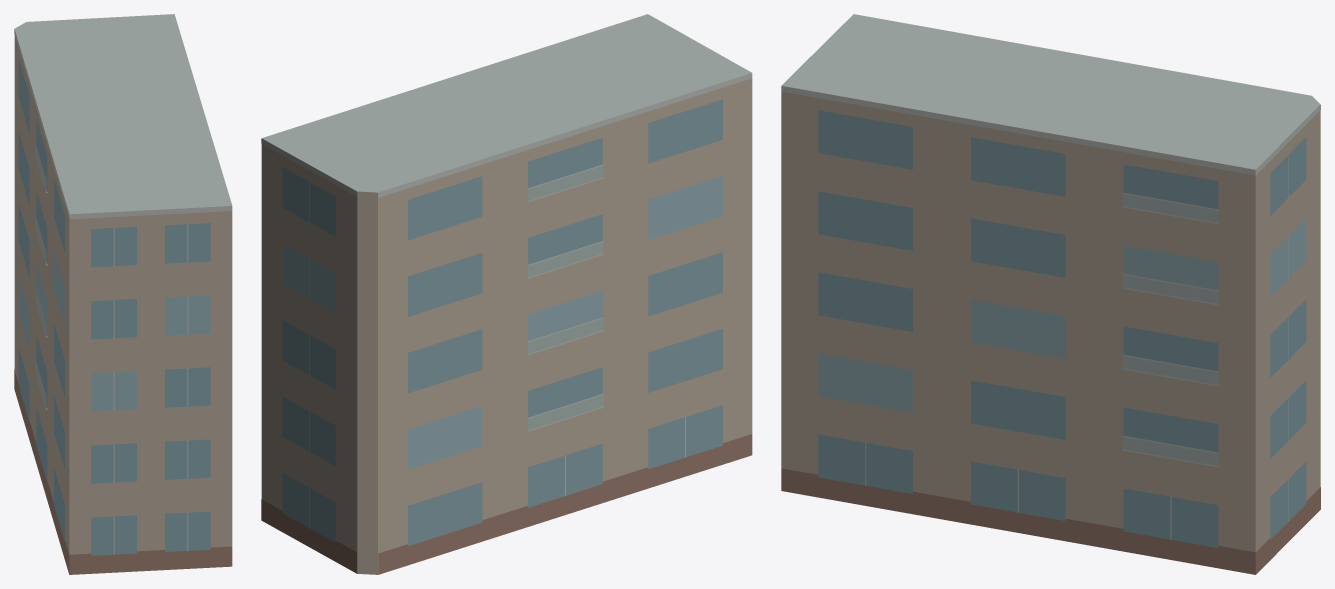
Rendered from survey-upis-32562920.glb.
3 views of the same model, side by side, from view 1: azimuth 30°, elevation 25°; view 2: azimuth 150°, elevation 25°; view 3: azimuth 270°, elevation 25° (orthographic). The views are drawn at different scales.
Parts seen in each view (by area): view 1: survey-upis-32562920.tmp; view 2: survey-upis-32562920.tmp; view 3: survey-upis-32562920.tmp.
Part boxes in pixels (x1,y1,x2,y2): survey-upis-32562920.tmp: (14, 14, 232, 574); survey-upis-32562920.tmp: (261, 14, 752, 574); survey-upis-32562920.tmp: (781, 14, 1320, 574).
Size of the model in its own units: 14.32 by 17.36 by 20.96.
